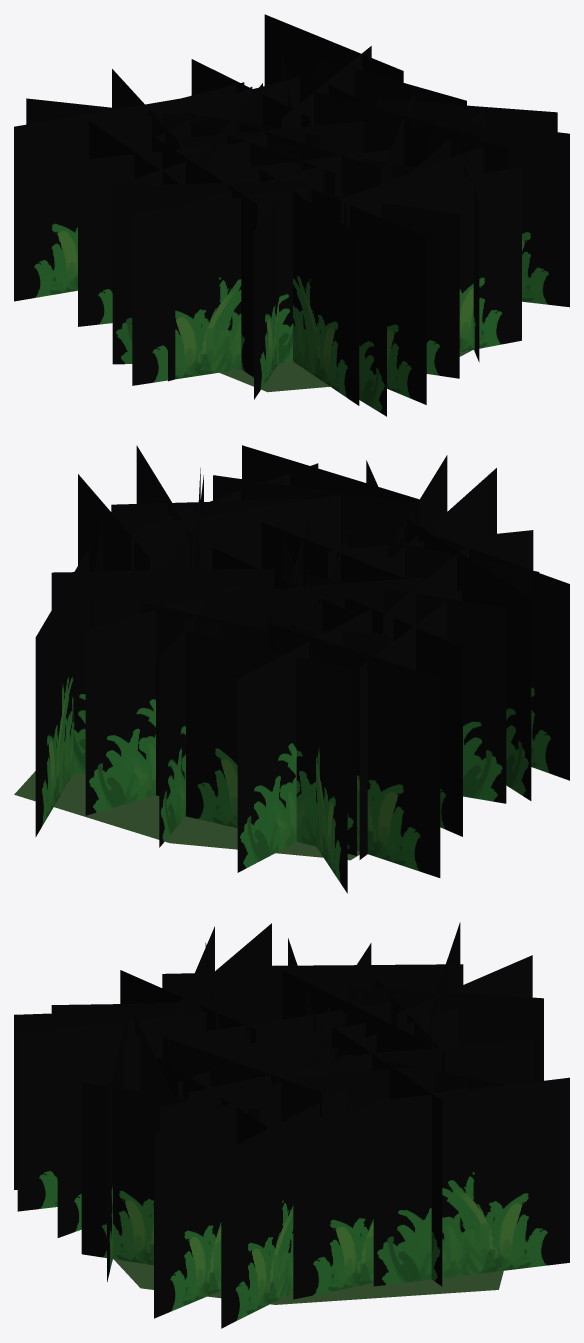
The model's file is grass_patch.fbx.
3 views of the same model, one above another, from view 1: azimuth 30°, elevation 25°; view 2: azimuth 150°, elevation 25°; view 3: azimuth 270°, elevation 25° (orthographic). The views are drawn at different scales.
Visible parts, largest first — view 1: Plane|tall_grass_texture|Dupli|16, Plane|tall_grass_texture|Dupli|35, Plane|tall_grass_texture|Dupli|9, Plane|tall_grass_texture|Dupli|20, Plane|tall_grass_texture|Dupli|14, Plane|tall_grass_texture|Dupli|19, Plane|tall_grass_texture|Dupli|33, Plane|tall_grass_texture|Dupli|18, Plane|tall_grass_texture|Dupli|23, Plane|tall_grass_texture|Dupli|25, Plane|tall_grass_texture|Dupli|22, Plane|tall_grass_texture|Dupli|4 (+27 smaller); view 2: Plane|tall_grass_texture|Dupli|35, Plane|tall_grass_texture|Dupli|32, Plane|tall_grass_texture|Dupli|1, Plane|tall_grass_texture|Dupli|30, Plane|tall_grass_texture|Dupli|29, Plane|tall_grass_texture|Dupli|2, Plane|tall_grass_texture|Dupli|16, Plane|tall_grass_texture|Dupli|4, Plane|tall_grass_texture|Dupli|10, Plane|tall_grass_texture|Dupli|23, Plane|tall_grass_texture|Dupli|33, Plane|tall_grass_texture|Dupli|37 (+21 smaller); view 3: Plane|tall_grass_texture|Dupli|4, Plane|tall_grass_texture|Dupli|7, Plane|tall_grass_texture|Dupli|14, Plane|tall_grass_texture|Dupli|6, Plane|tall_grass_texture|Dupli|11, Plane|tall_grass_texture|Dupli|19, Plane|tall_grass_texture|Dupli|18, Plane|tall_grass_texture|Dupli|30, Plane|tall_grass_texture|Dupli|17, Plane|tall_grass_texture|Dupli|3, Plane, Plane|tall_grass_texture|Dupli|2 (+24 smaller).
Part boxes in pixels (<box>): Plane|tall_grass_texture|Dupli|16: <box>132,186,311,385</box>; Plane|tall_grass_texture|Dupli|35: <box>14,96,192,301</box>; Plane|tall_grass_texture|Dupli|9: <box>346,166,521,352</box>; Plane|tall_grass_texture|Dupli|20: <box>259,168,359,405</box>; Plane|tall_grass_texture|Dupli|14: <box>396,113,569,307</box>; Plane|tall_grass_texture|Dupli|19: <box>311,189,426,404</box>; Plane|tall_grass_texture|Dupli|33: <box>78,142,242,326</box>; Plane|tall_grass_texture|Dupli|18: <box>324,194,459,378</box>; Plane|tall_grass_texture|Dupli|23: <box>112,181,308,364</box>; Plane|tall_grass_texture|Dupli|25: <box>335,219,386,416</box>; Plane|tall_grass_texture|Dupli|22: <box>254,156,305,399</box>; Plane|tall_grass_texture|Dupli|4: <box>264,14,403,103</box>; Plane|tall_grass_texture|Dupli|35: <box>267,621,440,877</box>; Plane|tall_grass_texture|Dupli|32: <box>177,628,356,855</box>; Plane|tall_grass_texture|Dupli|1: <box>85,585,239,815</box>; Plane|tall_grass_texture|Dupli|30: <box>237,609,371,872</box>; Plane|tall_grass_texture|Dupli|29: <box>306,574,506,803</box>; Plane|tall_grass_texture|Dupli|2: <box>51,568,273,773</box>; Plane|tall_grass_texture|Dupli|16: <box>404,525,569,780</box>; Plane|tall_grass_texture|Dupli|4: <box>35,547,89,836</box>; Plane|tall_grass_texture|Dupli|10: <box>131,495,340,570</box>; Plane|tall_grass_texture|Dupli|23: <box>407,518,531,800</box>; Plane|tall_grass_texture|Dupli|33: <box>316,584,462,836</box>; Plane|tall_grass_texture|Dupli|37: <box>291,619,347,893</box>; Plane|tall_grass_texture|Dupli|4: <box>373,1077,569,1286</box>; Plane|tall_grass_texture|Dupli|7: <box>293,1087,467,1299</box>; Plane|tall_grass_texture|Dupli|14: <box>154,1075,297,1318</box>; Plane|tall_grass_texture|Dupli|6: <box>221,1090,346,1328</box>; Plane|tall_grass_texture|Dupli|11: <box>81,1082,259,1265</box>; Plane|tall_grass_texture|Dupli|19: <box>17,1012,206,1211</box>; Plane|tall_grass_texture|Dupli|18: <box>57,1011,202,1237</box>; Plane|tall_grass_texture|Dupli|30: <box>348,985,543,1081</box>; Plane|tall_grass_texture|Dupli|17: <box>162,969,366,1024</box>; Plane|tall_grass_texture|Dupli|3: <box>342,1041,532,1085</box>; Plane: <box>114,1259,503,1304</box>; Plane|tall_grass_texture|Dupli|2: <box>332,1027,442,1286</box>.
Bounding box in the file's own units: 560 × 222 × 593.
Materials: 2 (1 with a texture image).
